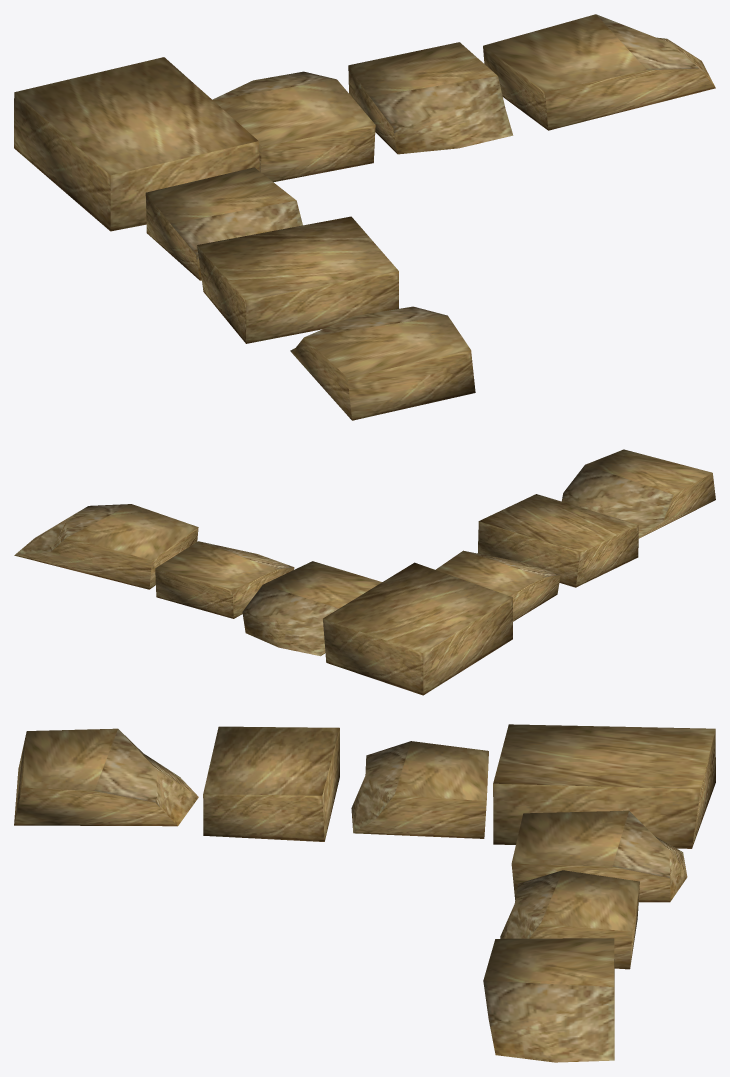
Rendered from S_Build_Desert087.FBX.
3 views of the same model, one above another, from view 1: azimuth 30°, elevation 25°; view 2: azimuth 150°, elevation 25°; view 3: azimuth 270°, elevation 25° (orthographic). The views are drawn at different scales.
Visible parts, largest first — view 1: DrawCall_0055; view 2: DrawCall_0055; view 3: DrawCall_0055.
Boxes of the visible parts, <box> form: DrawCall_0055: <box>14,14,715,420</box>; DrawCall_0055: <box>14,449,715,695</box>; DrawCall_0055: <box>14,724,715,1062</box>.
Size of the model in its own units: 278 by 280 by 26.83.
